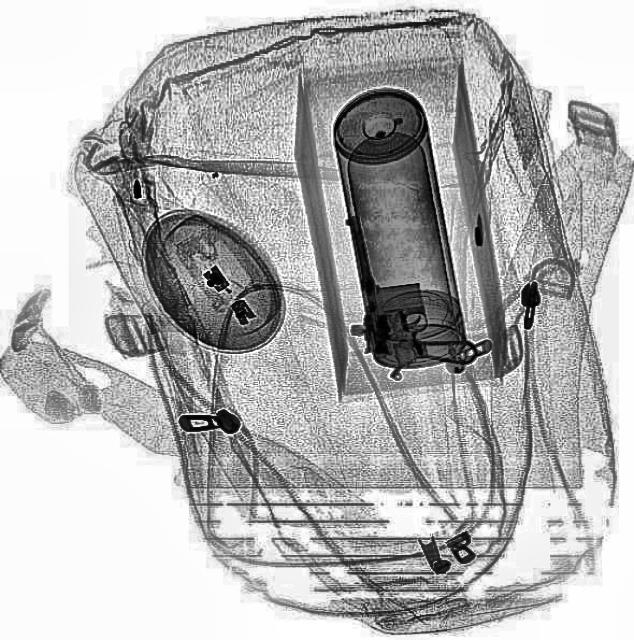Gun: (336, 202, 480, 384)
